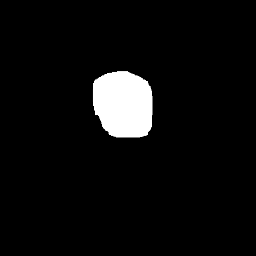mass: (96, 75, 152, 141)
